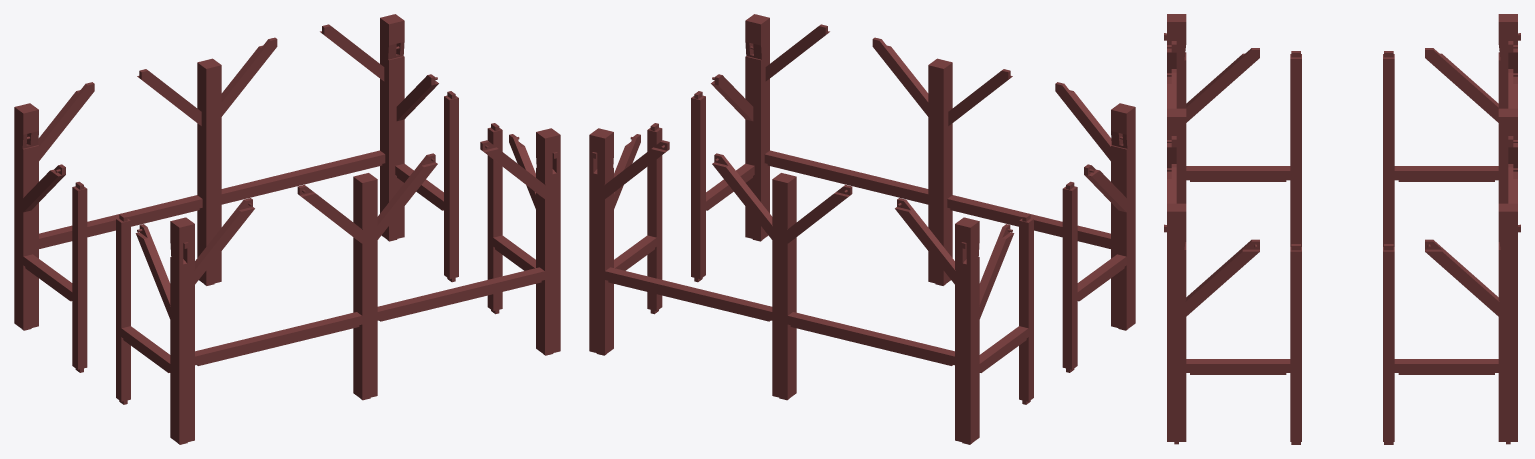
The model's file is Frame.obj.
3 views of the same model, side by side, from view 1: azimuth 30°, elevation 25°; view 2: azimuth 150°, elevation 25°; view 3: azimuth 270°, elevation 25° (orthographic). The views are drawn at different scales.
Visible parts, largest first — view 1: object_66, object_64, object_65, object_63, object_62, object_61, object_50, object_49, object_54, object_58, object_53, object_52 (+18 smaller); view 2: object_63, object_61, object_62, object_66, object_65, object_64, object_52, object_51, object_53, object_57, object_54, object_50 (+18 smaller); view 3: object_61, object_64, object_49, object_51, object_50, object_52, object_55, object_59, object_56, object_60, object_67, object_73 (+10 smaller).
Part boxes in pixels (box(x1,y1,x2,y2)): object_66: box(170, 217, 194, 444); object_64: box(536, 128, 560, 355); object_65: box(353, 173, 377, 400); object_63: box(14, 103, 38, 330); object_62: box(197, 58, 221, 285); object_61: box(380, 14, 404, 241); object_50: box(72, 181, 87, 372); object_49: box(444, 91, 458, 282); object_54: box(376, 267, 545, 321); object_58: box(194, 312, 363, 365); object_53: box(221, 150, 385, 204); object_52: box(116, 213, 130, 404); object_63: box(955, 217, 979, 444); object_61: box(589, 128, 613, 355); object_62: box(772, 173, 796, 400); object_66: box(1111, 103, 1135, 330); object_65: box(928, 58, 952, 285); object_64: box(745, 14, 769, 241); object_52: box(1062, 181, 1077, 372); object_51: box(691, 91, 705, 282); object_53: box(604, 267, 773, 321); object_57: box(786, 312, 955, 365); object_54: box(764, 150, 928, 204); object_50: box(1019, 213, 1033, 404); object_61: box(1498, 203, 1517, 444); object_64: box(1167, 203, 1186, 444); object_49: box(1383, 244, 1394, 444); object_51: box(1290, 244, 1301, 444); object_50: box(1383, 51, 1394, 246); object_52: box(1290, 51, 1301, 246); object_55: box(1393, 359, 1499, 374); object_59: box(1185, 359, 1291, 374); object_56: box(1393, 166, 1498, 181); object_60: box(1186, 166, 1291, 181); object_67: box(1425, 239, 1499, 316); object_73: box(1185, 239, 1259, 316).
Bounding box in the file's own units: 4880 × 2799 × 3720.
